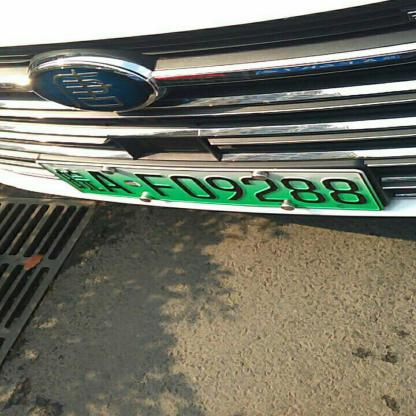lp: (83, 161, 381, 208)
